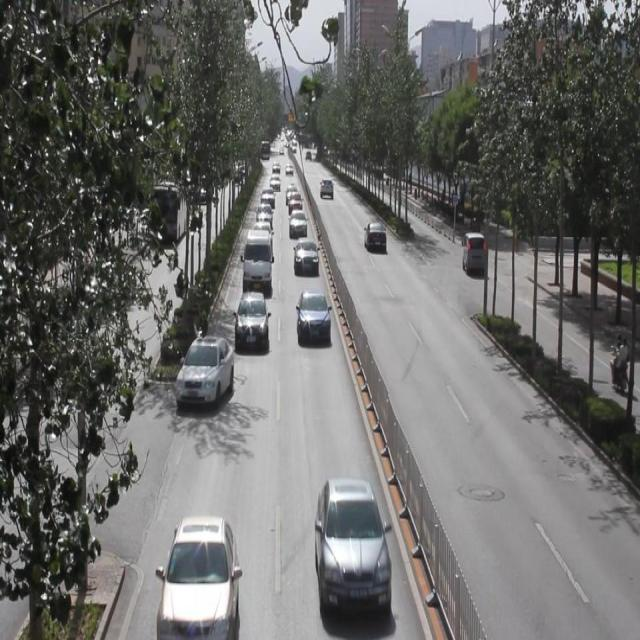car: (316, 474, 388, 610), (159, 513, 235, 640), (177, 333, 233, 408), (234, 289, 268, 350), (296, 289, 329, 342), (293, 236, 318, 274), (363, 217, 385, 252), (289, 207, 305, 236), (251, 219, 269, 242), (256, 200, 272, 223), (287, 190, 302, 213)
truck: (243, 228, 271, 292), (462, 228, 484, 273)
